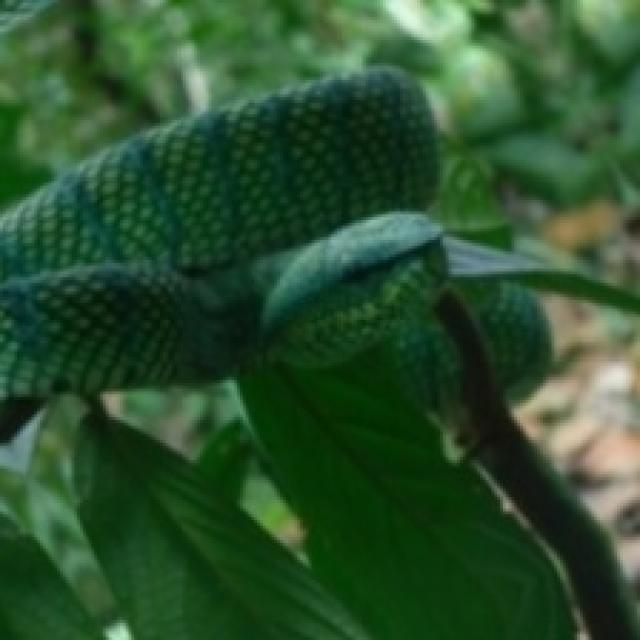north ph temple pitviper: (0, 70, 442, 401), (472, 284, 549, 386)
